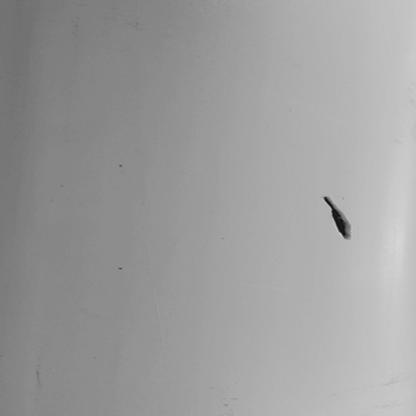kongdong: (322, 196, 356, 240)
